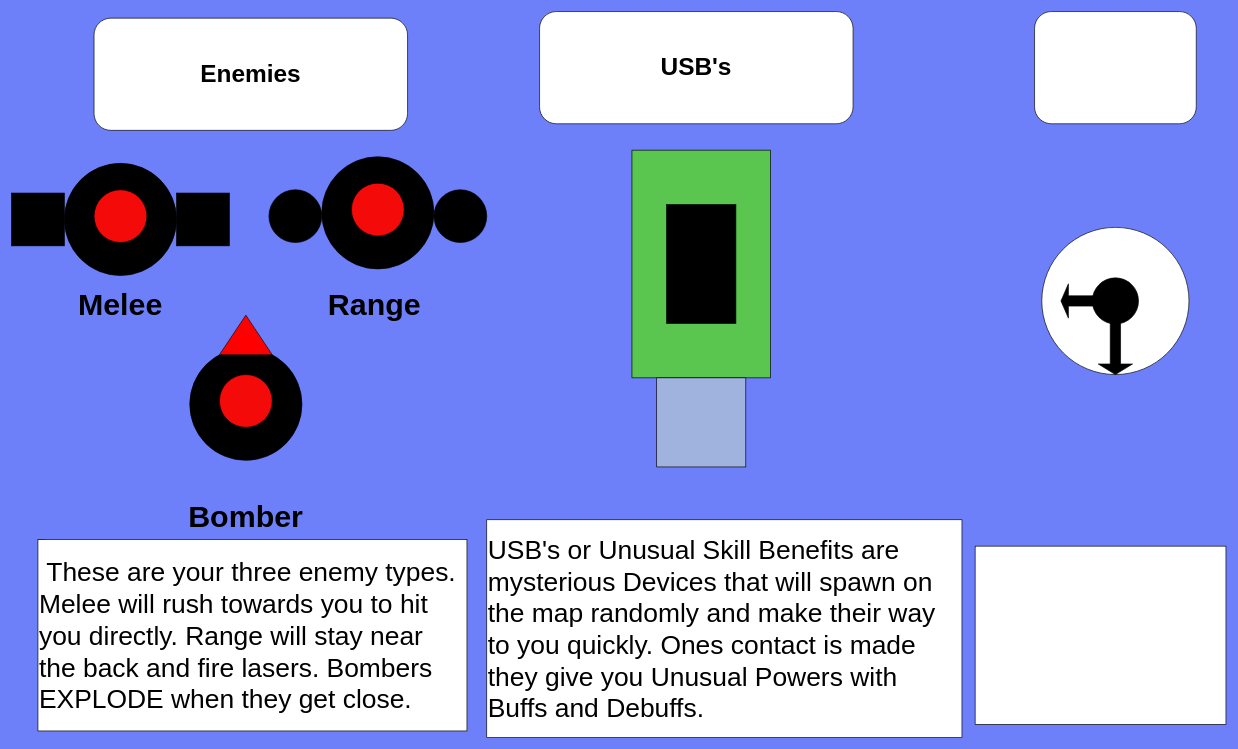
The diagram is 1238 pixels wide and 749 high, and some of its shapes have lost their labels. Each missing label, with the centre of its shape:
"TIME" belongs at (1115,67).
"YOUR GOAL IS TO LAST THE TIMER !!!! Timer is in the top left." belongs at (1100,634).
